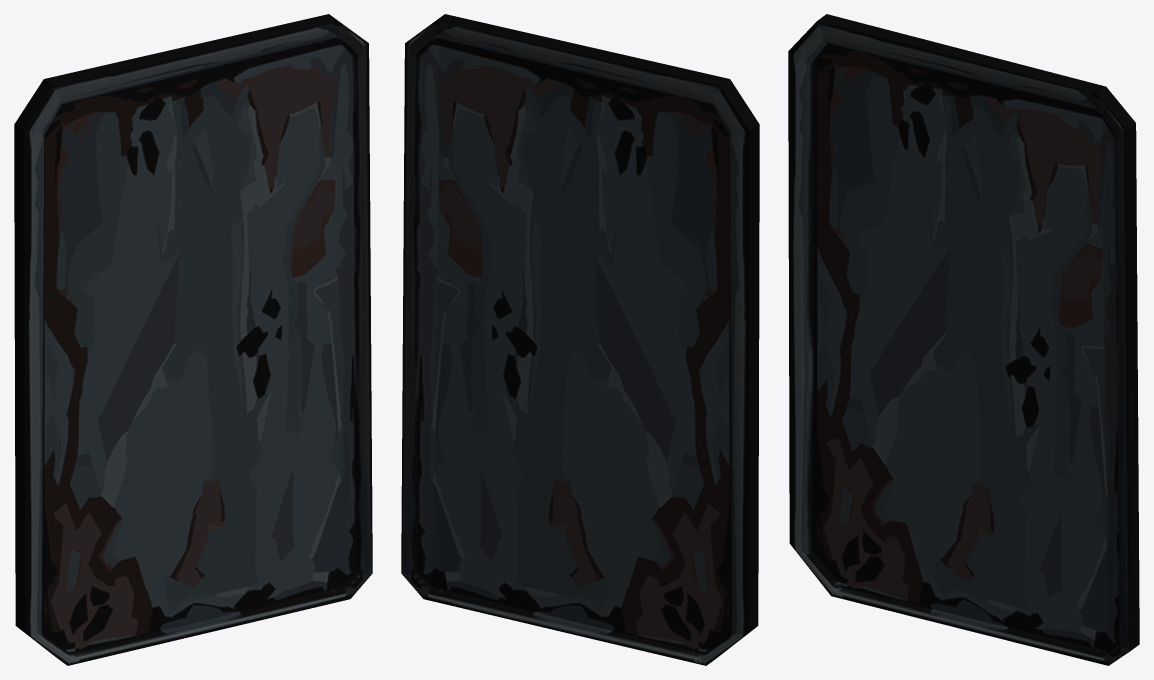
File: SM_Planche_Coupe.fbx
The picture shows the model from 3 angles, left to right: view 1: azimuth 30°, elevation 25°; view 2: azimuth 150°, elevation 25°; view 3: azimuth 330°, elevation 25°; orthographic projection. The views are drawn at different scales.
Visible parts, largest first — view 1: polySurface32; view 2: polySurface32; view 3: polySurface32.
Boxes of the visible parts, x1=… form: polySurface32: x1=14, y1=14, x2=372, y2=665; polySurface32: x1=401, y1=14, x2=759, y2=665; polySurface32: x1=788, y1=14, x2=1139, y2=665.
Size of the model in its own units: 4.75 by 7.62 by 0.227.
